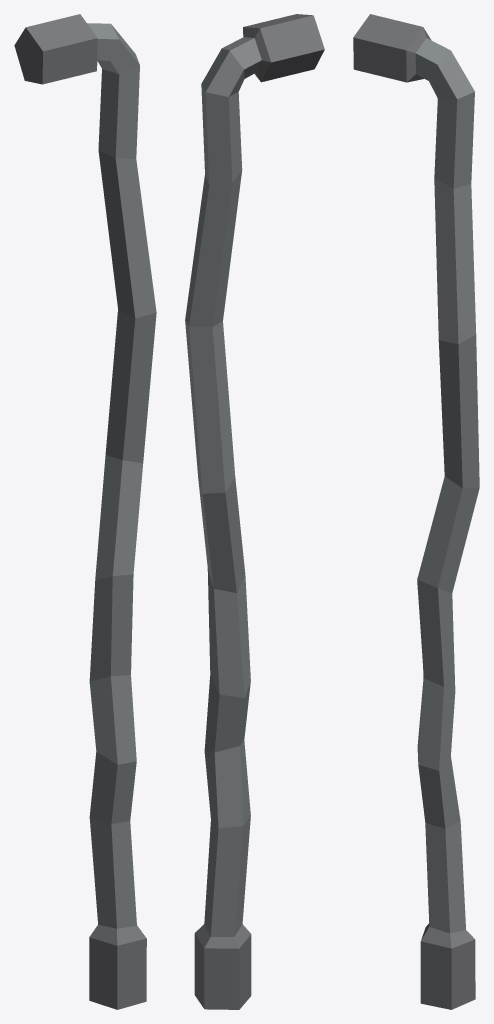
The model's file is SM_Prop_Tube_01.glb.
3 renders of one model, left to right at view 1: azimuth 30°, elevation 25°; view 2: azimuth 210°, elevation 25°; view 3: azimuth 330°, elevation 25°, orthographic. The views are drawn at different scales.
Parts seen in each view (by area): view 1: SM_Prop_Tube_01; view 2: SM_Prop_Tube_01; view 3: SM_Prop_Tube_01.
Boxes of the visible parts, x1=… form: SM_Prop_Tube_01: x1=14, y1=14, x2=156, y2=1009; SM_Prop_Tube_01: x1=185, y1=14, x2=324, y2=1009; SM_Prop_Tube_01: x1=353, y1=14, x2=479, y2=1009.
Bounding box in the file's own units: 0.2163 × 1.73 × 0.1036.
Materials: 1 (1 with a texture image).
